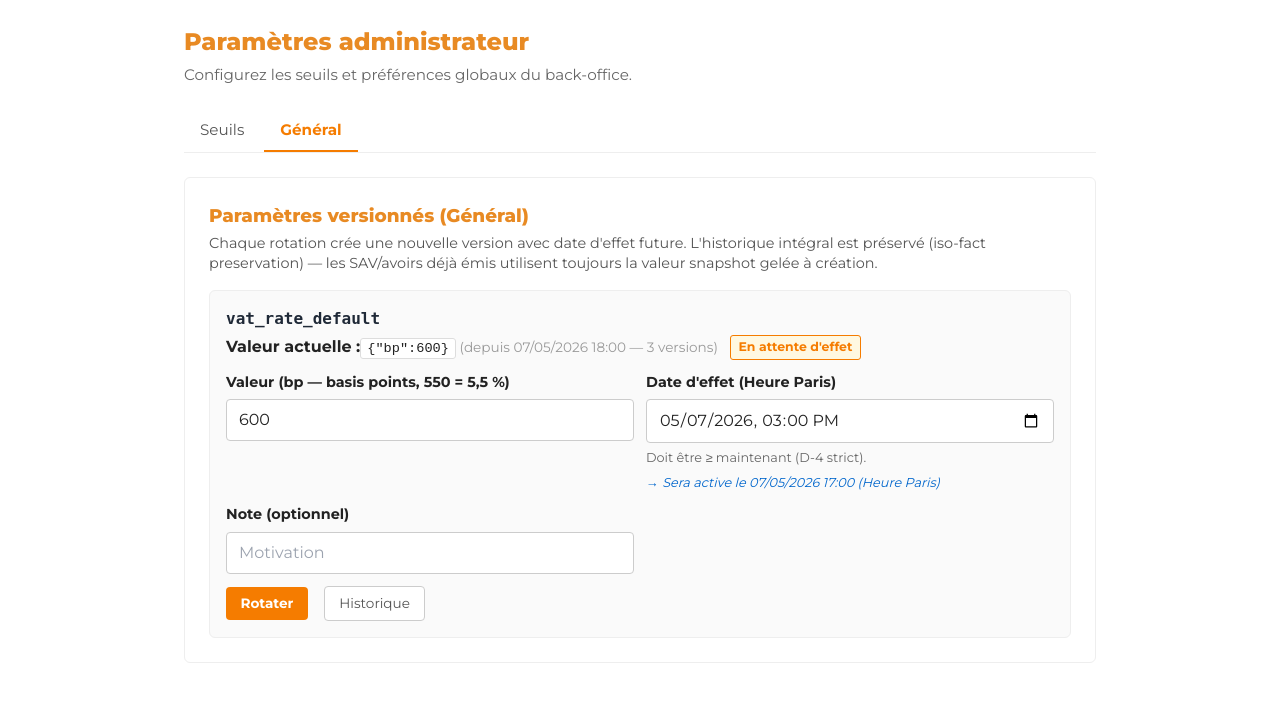
Scenario: SettingsAdminView — V1.x-B régression timezone + badges (UI) › W-VxB-2 : badges présents sur history-panel rows (pending / active / fermée)
Click the button "Historique" at (375, 603), box 324,586 -> 425,621
(page scrolled)
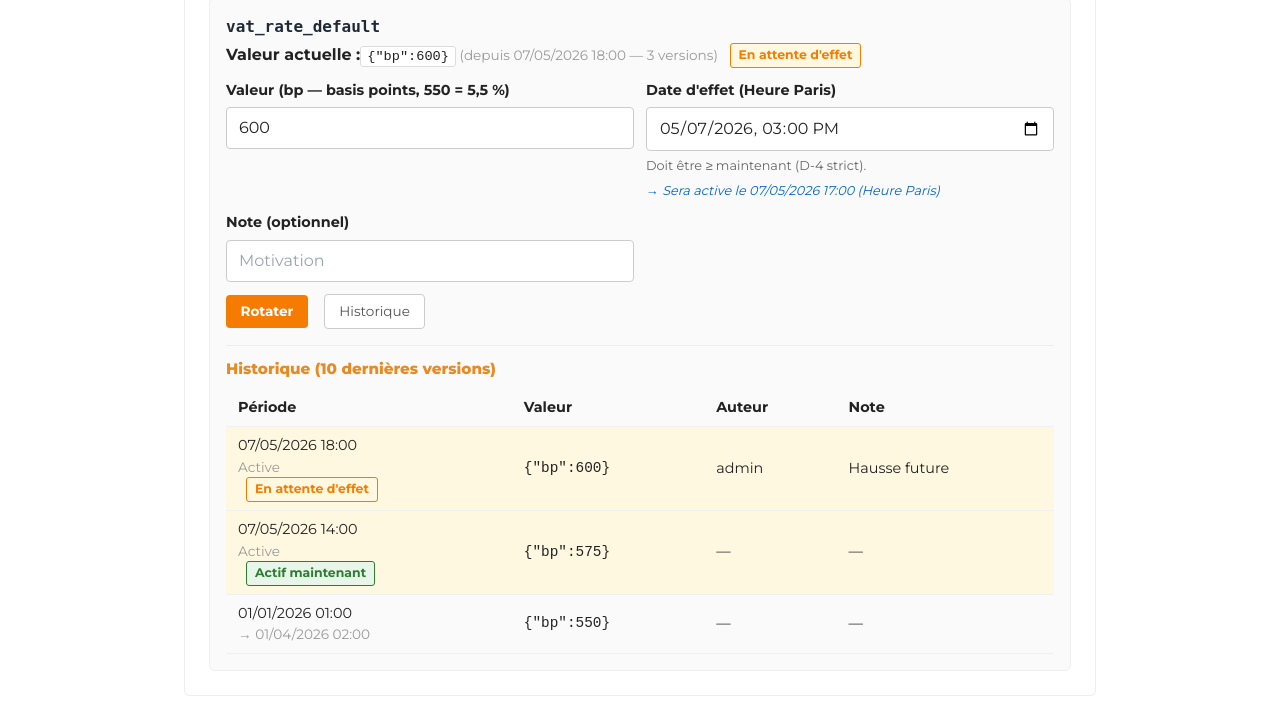
Now the text with test id "history-badge-pending" reads "En attente d'effet", box 255,481 -> 369,496
Now the text with test id "history-badge-active" reads "Actif maintenant", box 255,565 -> 366,580
Now the number of elements with test id "history-badge-pending" is 1, box 246,477 -> 378,502
